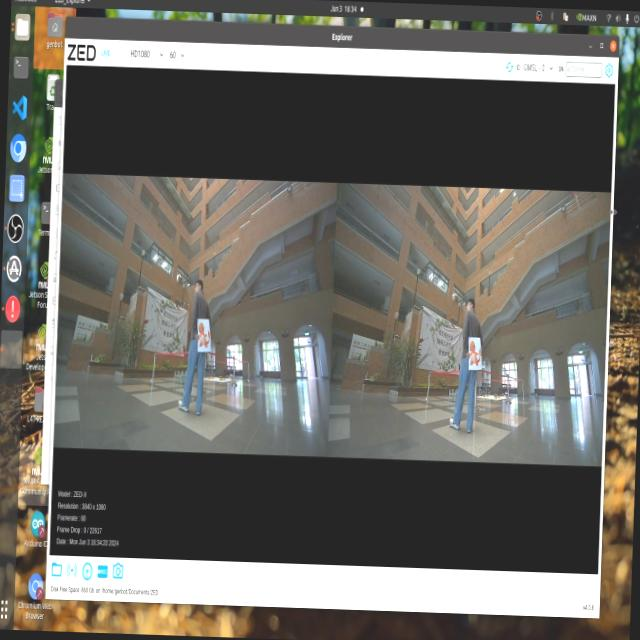red: (467, 334, 482, 369), (194, 322, 208, 355)
